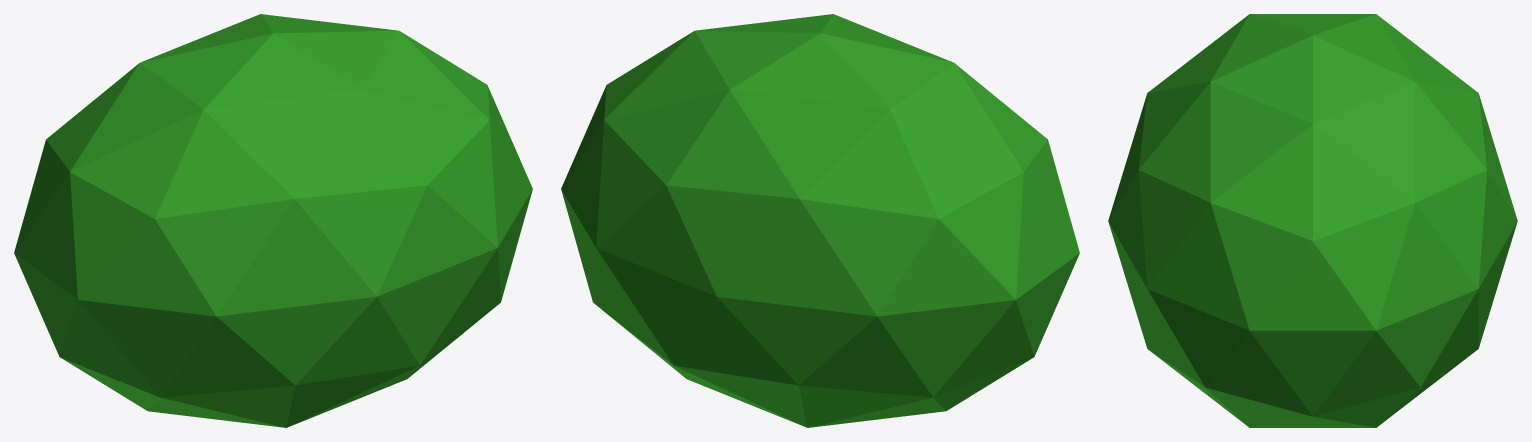
Rendered from bush.glb.
The picture shows the model from 3 angles, left to right: view 1: azimuth 30°, elevation 25°; view 2: azimuth 150°, elevation 25°; view 3: azimuth 270°, elevation 25°; orthographic projection.
Parts seen in each view (by area): view 1: Icosphere; view 2: Icosphere; view 3: Icosphere.
Boxes of the visible parts, x1,y1,x2,y2 form: Icosphere: (14, 14, 532, 427); Icosphere: (561, 14, 1079, 427); Icosphere: (1108, 14, 1517, 427).
Bounding box in the file's own units: 2.54 × 2 × 2.
